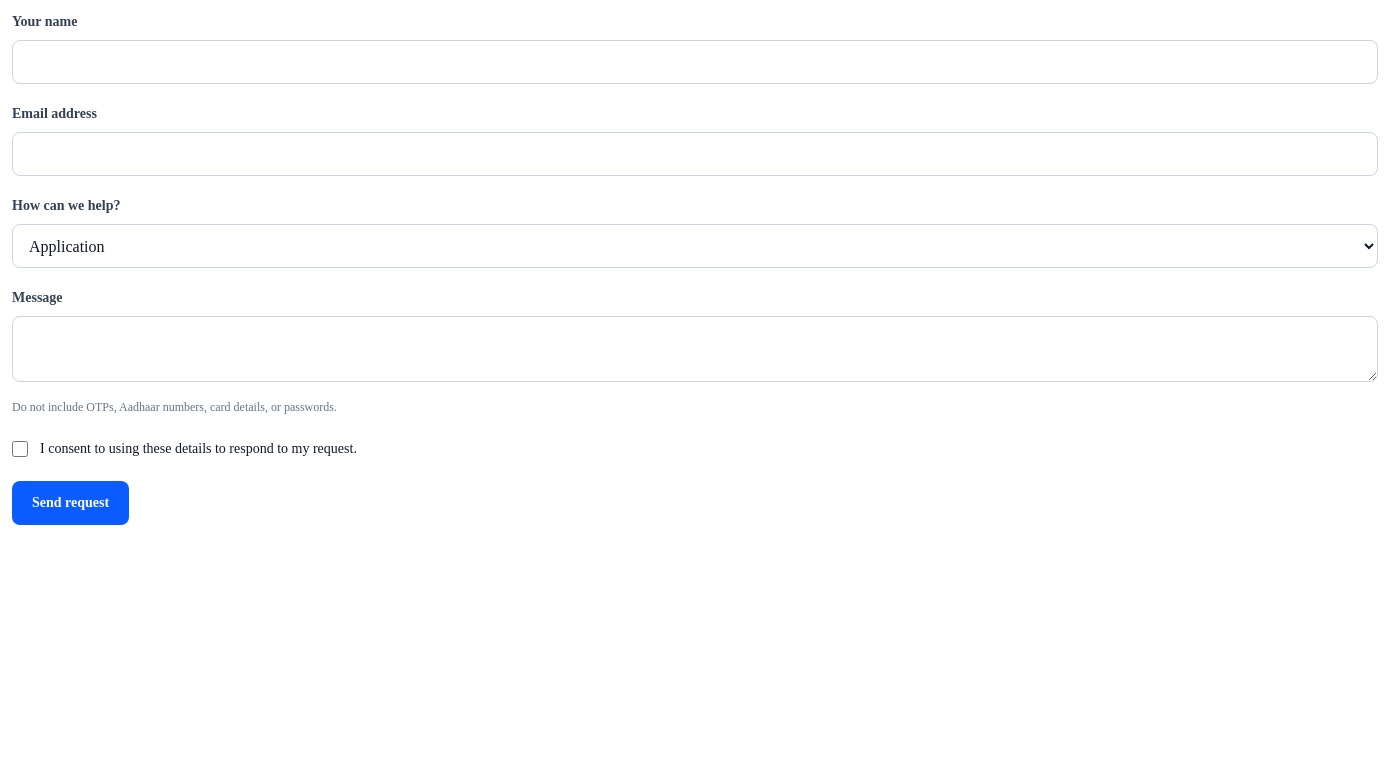
Test case: contact form requires consent and confirms its result
In the field labelled "Your name": (695, 62) x1=12 y1=40 x2=1378 y2=84, type "Demo Customer"
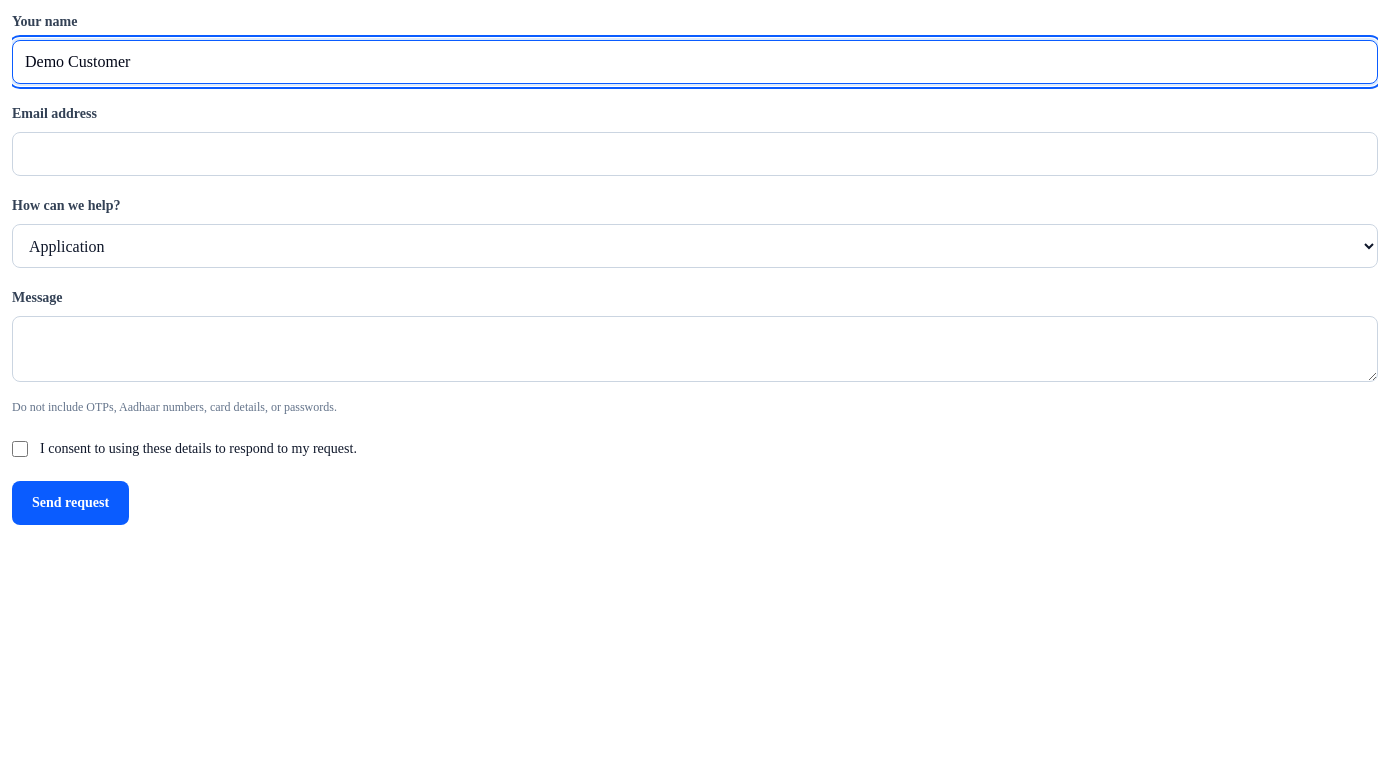
In the field labelled "Email address": (695, 154) x1=12 y1=132 x2=1378 y2=176, type "customer@example.test"
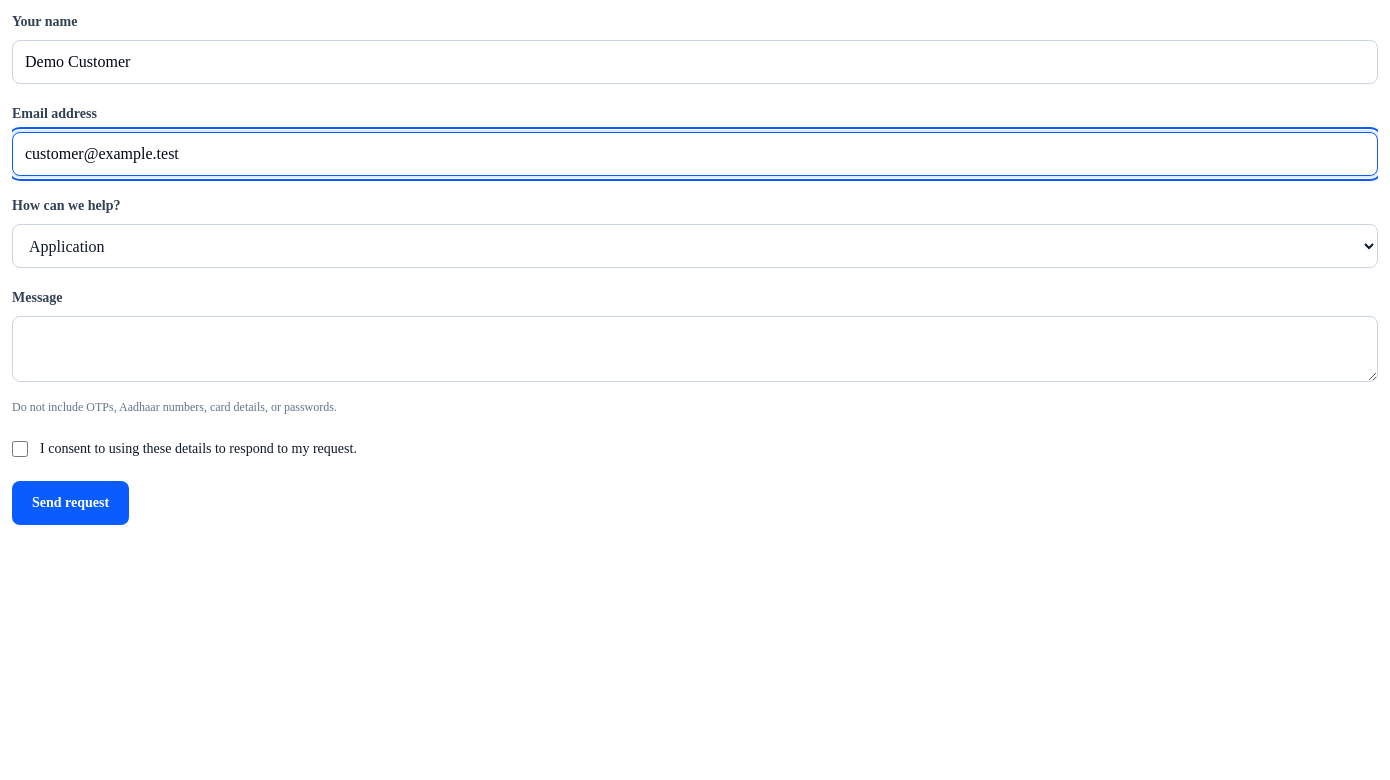
In the text box labelled "Message": (695, 349) x1=12 y1=316 x2=1378 y2=382, type "Please help with my loan application."
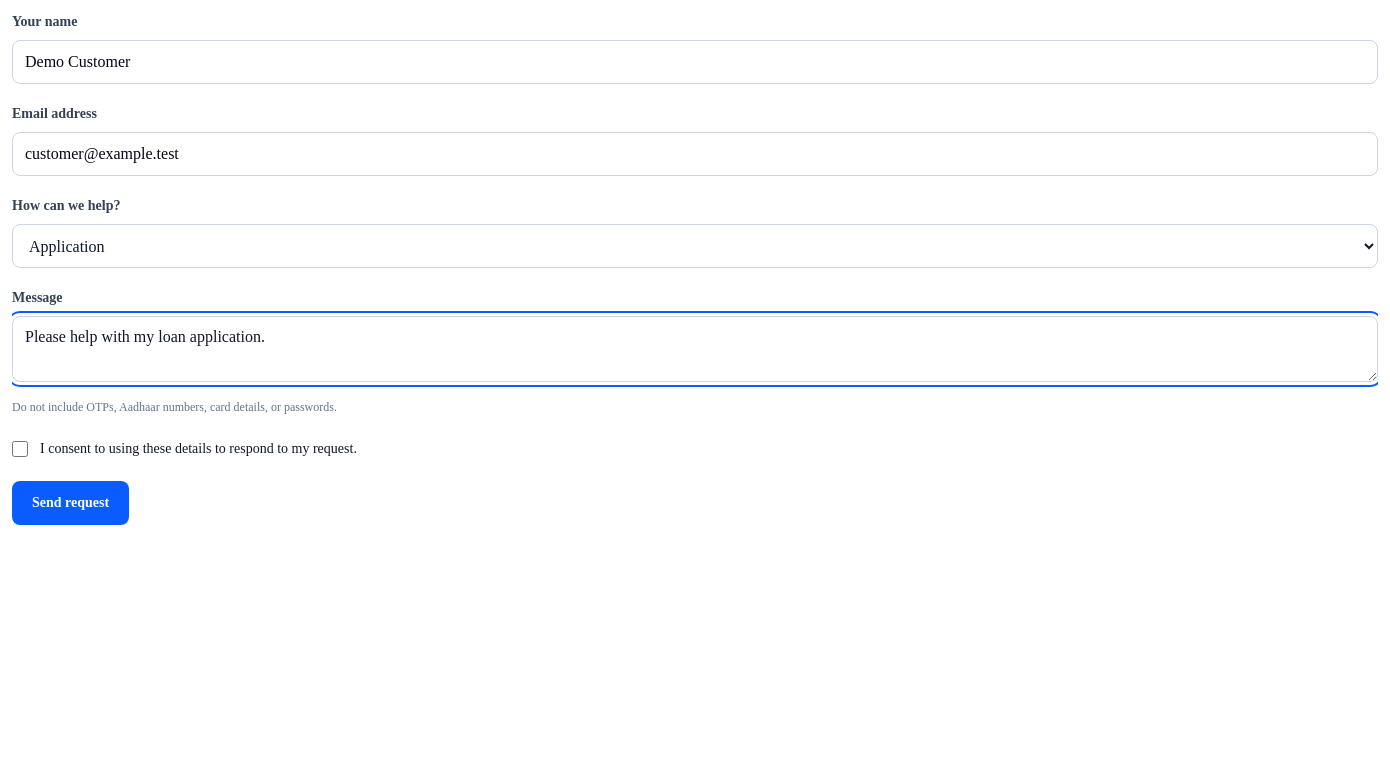
Click the button "Send request": (71, 503) x1=12 y1=481 x2=129 y2=525
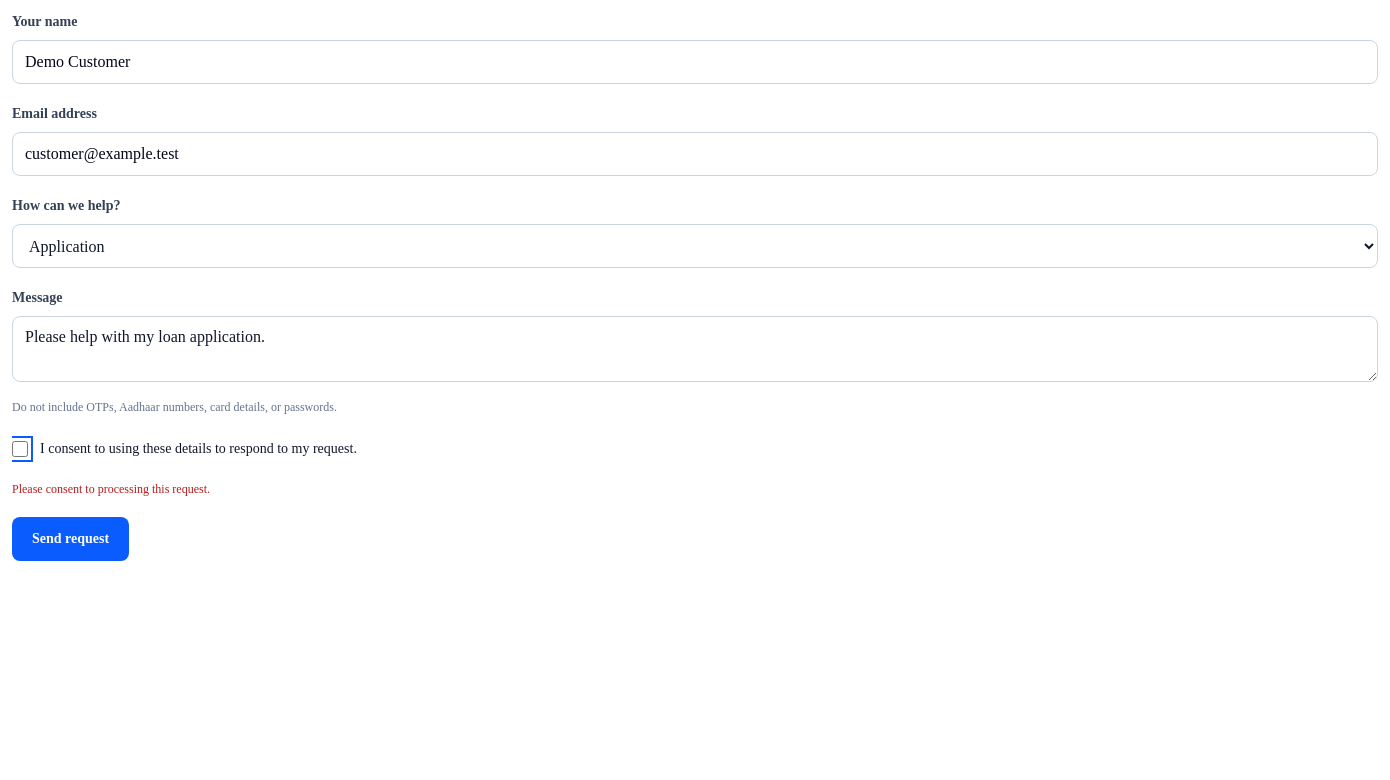
Expected: the message shows "consent", x1=12 y1=482 x2=210 y2=496
Click the checkbox: (20, 449) x1=12 y1=441 x2=28 y2=457
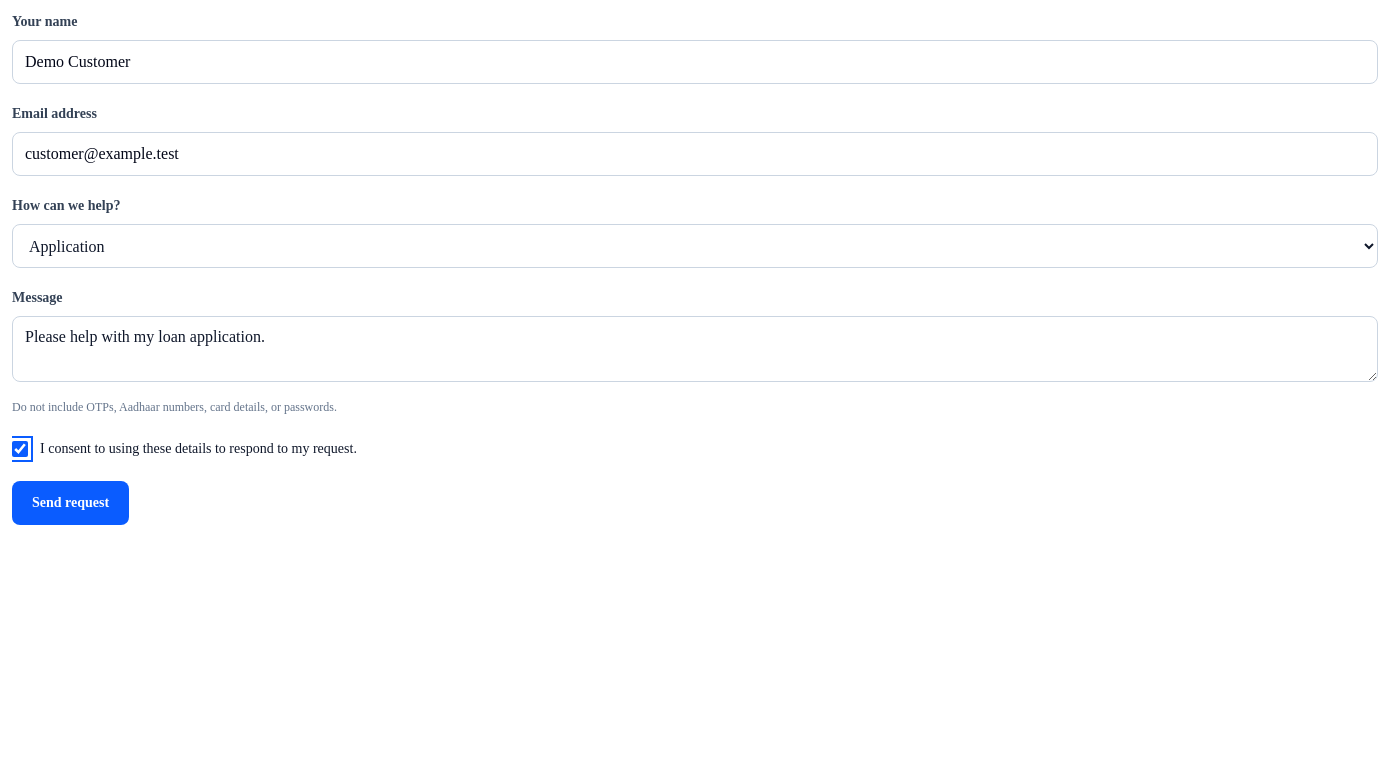
Click the button "Send request": (71, 503) x1=12 y1=481 x2=129 y2=525
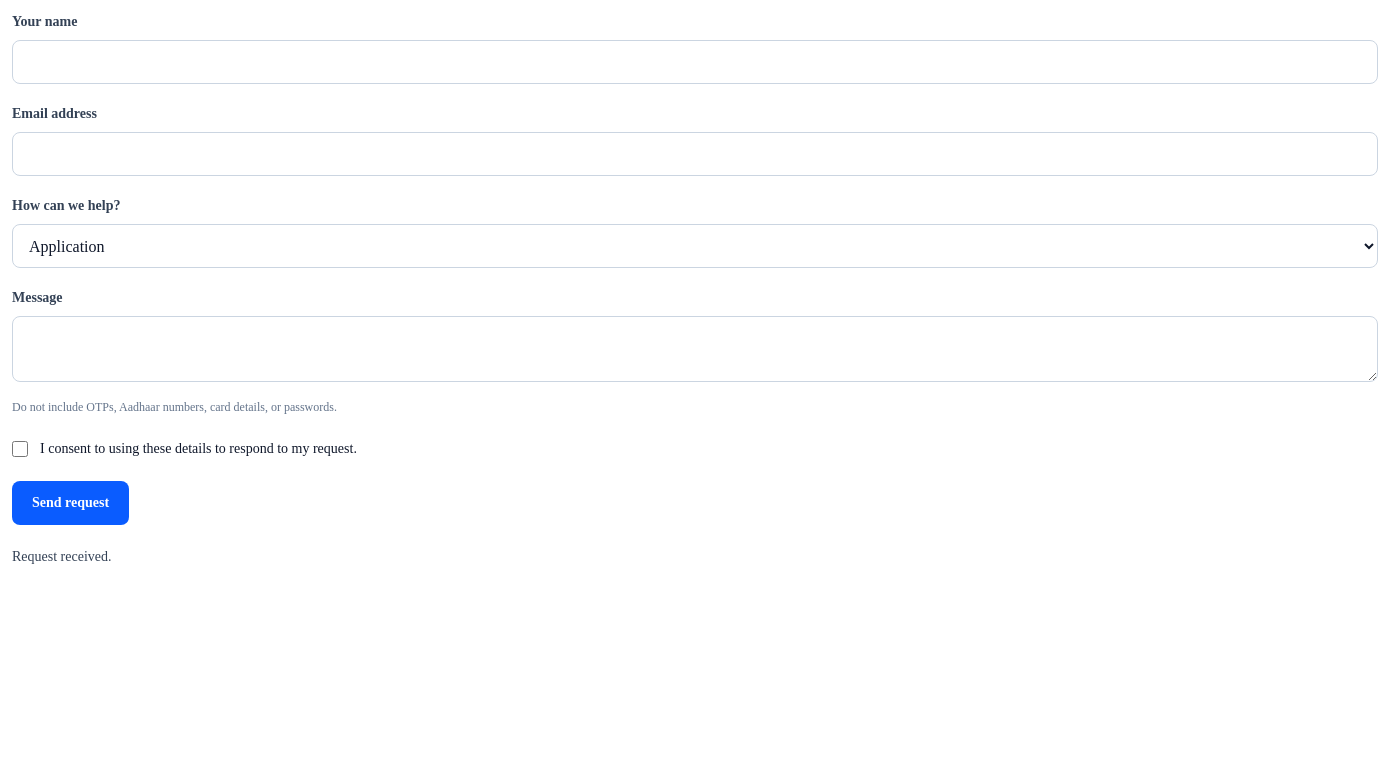
Expected: the message reads "Request received.", x1=12 y1=549 x2=112 y2=564
